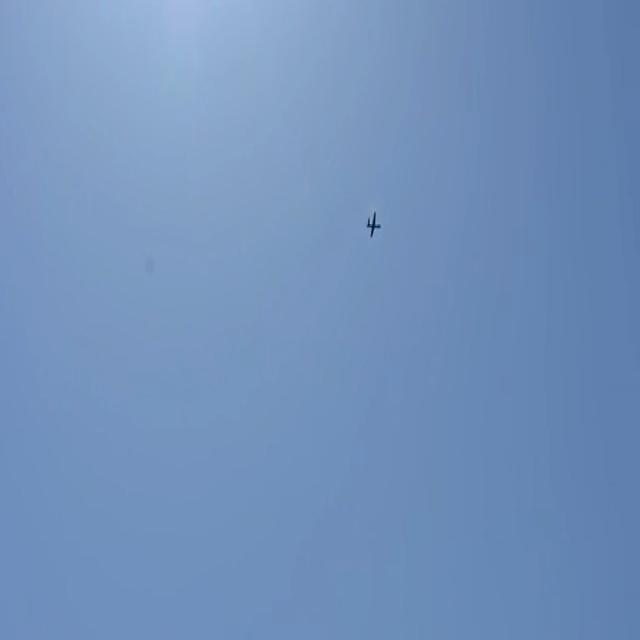iha: (367, 212, 380, 236)
